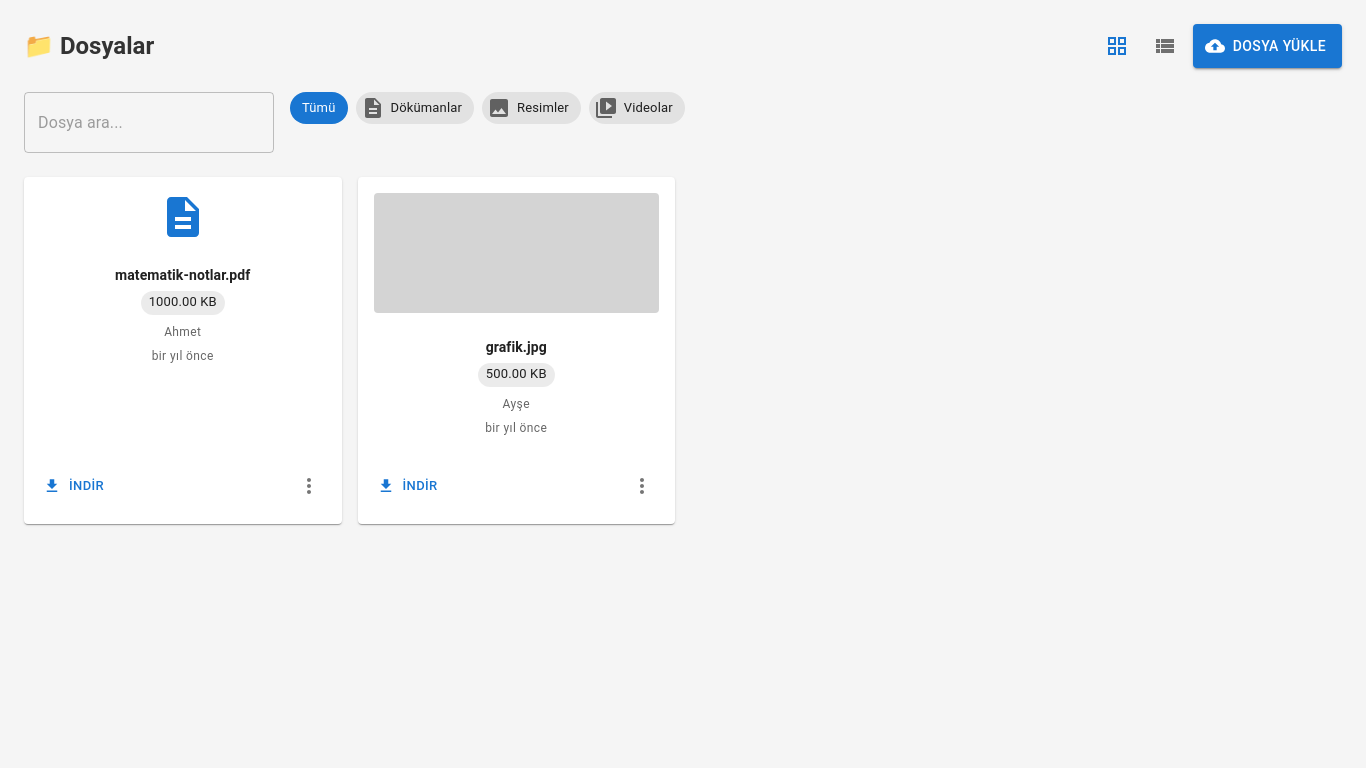
Scenario: FileManager Component › File Information › closes info dialog when close button is clicked
Click the button with test id "MoreVertIcon". click: [308, 486]
box: [292,464,326,508]
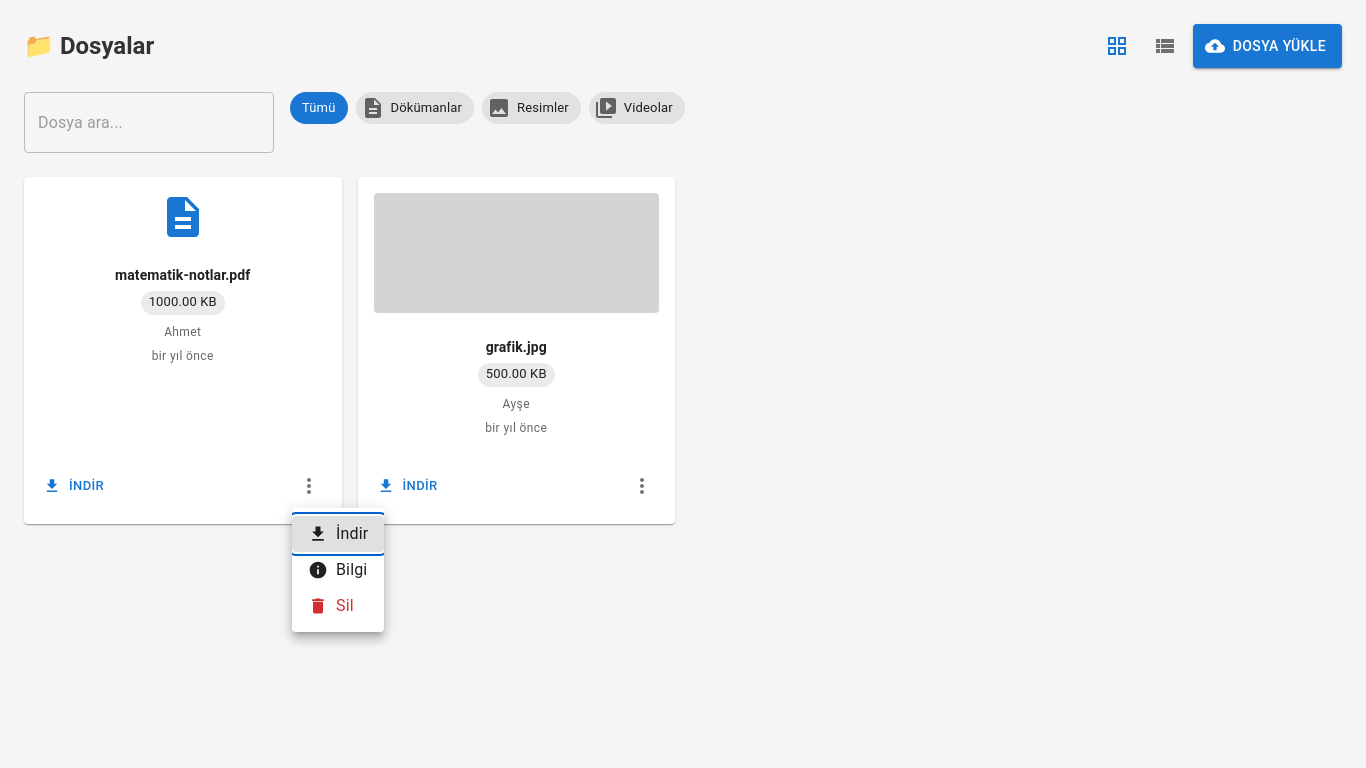
Click the menu item "Bilgi". click: [338, 570]
box: [308,560,367,580]
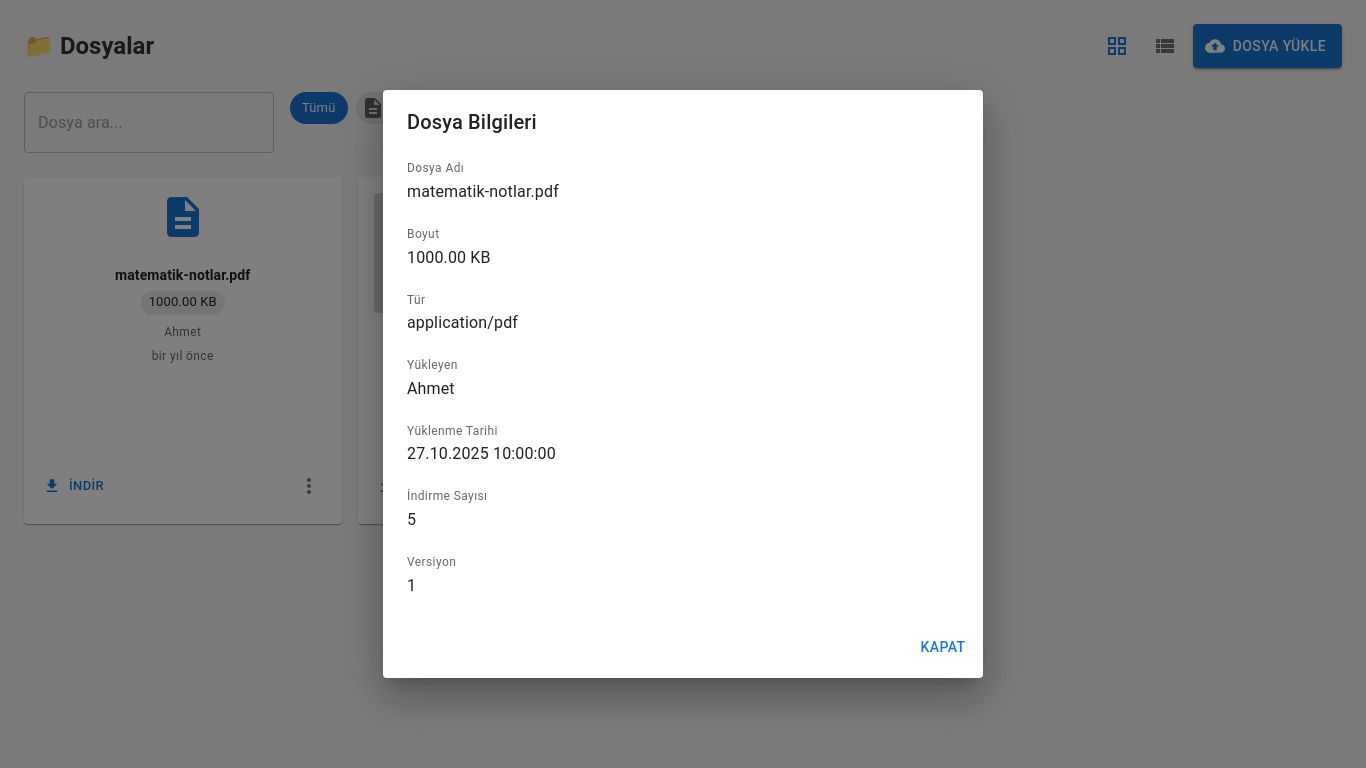
Click the button "Kapat". click: [943, 648]
box: [911,626,975,670]
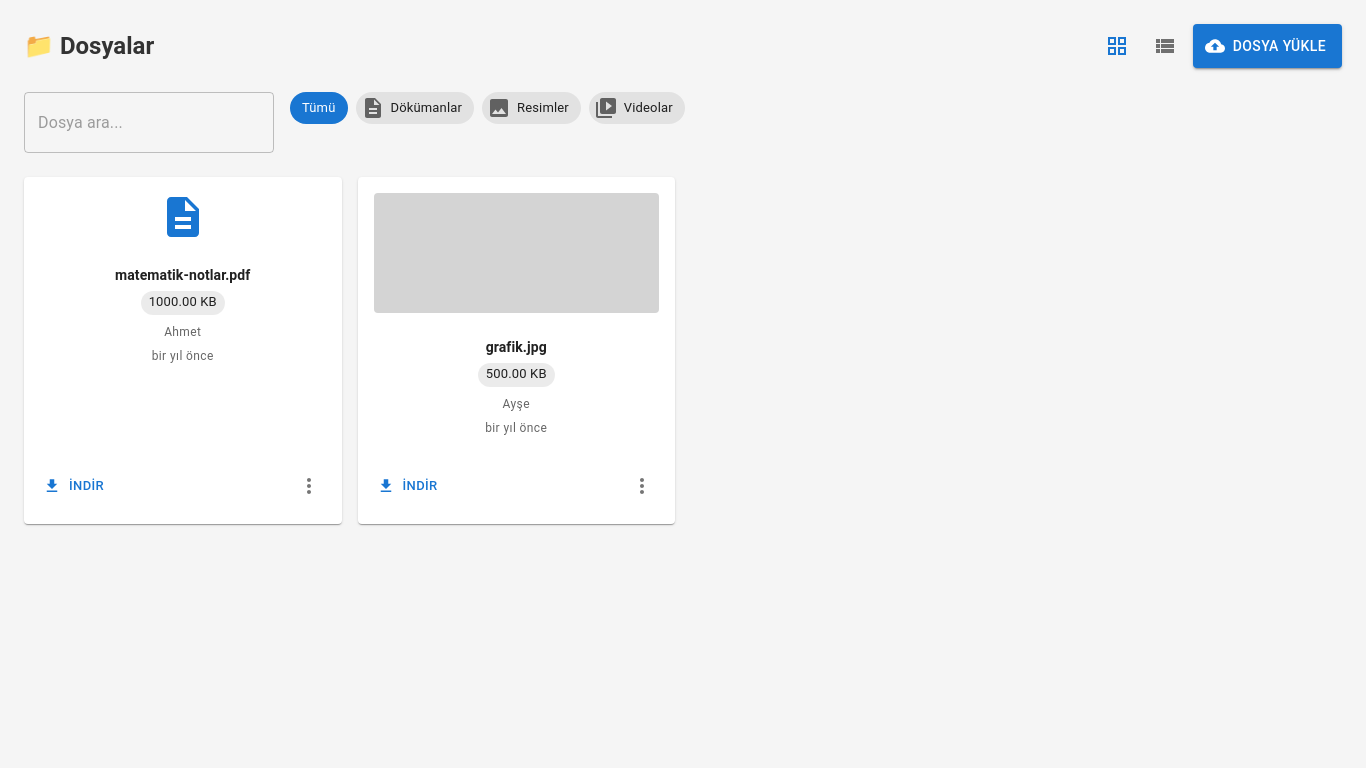
Now the heading "Dosya Bilgileri" is gone
